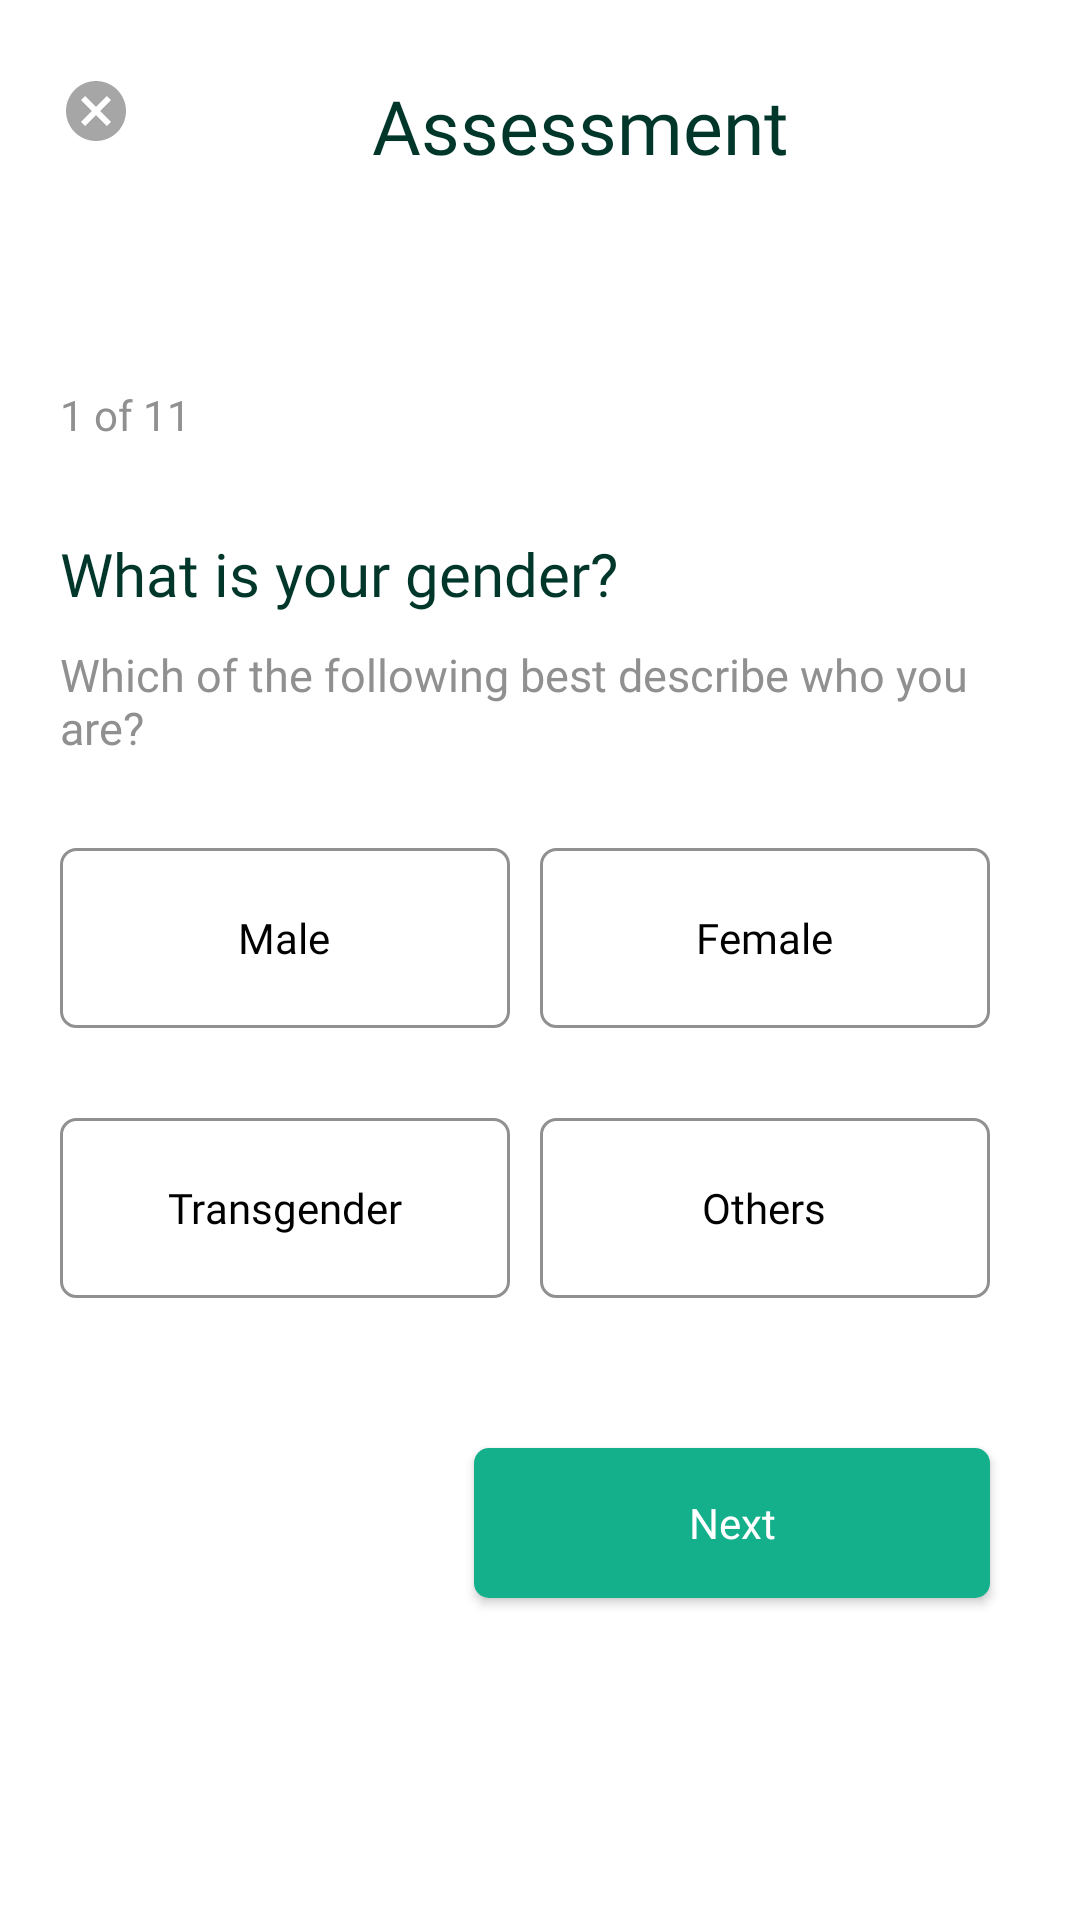

Where to tap for icons on this 1080px×1920px app screen, as point (x, y):
cancel: point (96, 111)
